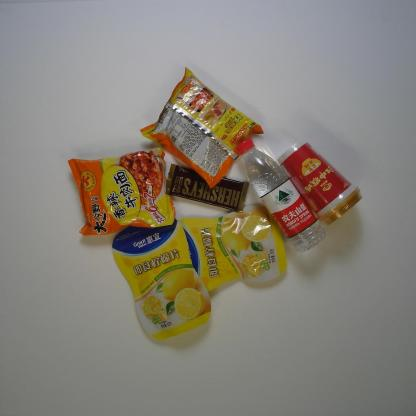Chocolate: (165, 163, 249, 213)
Dried Fruit: (112, 215, 212, 341), (174, 204, 288, 293)
Drink: (236, 138, 326, 252)
Instant Drink: (277, 139, 363, 227)
Instant Noodles: (140, 66, 264, 190), (67, 147, 176, 236)
